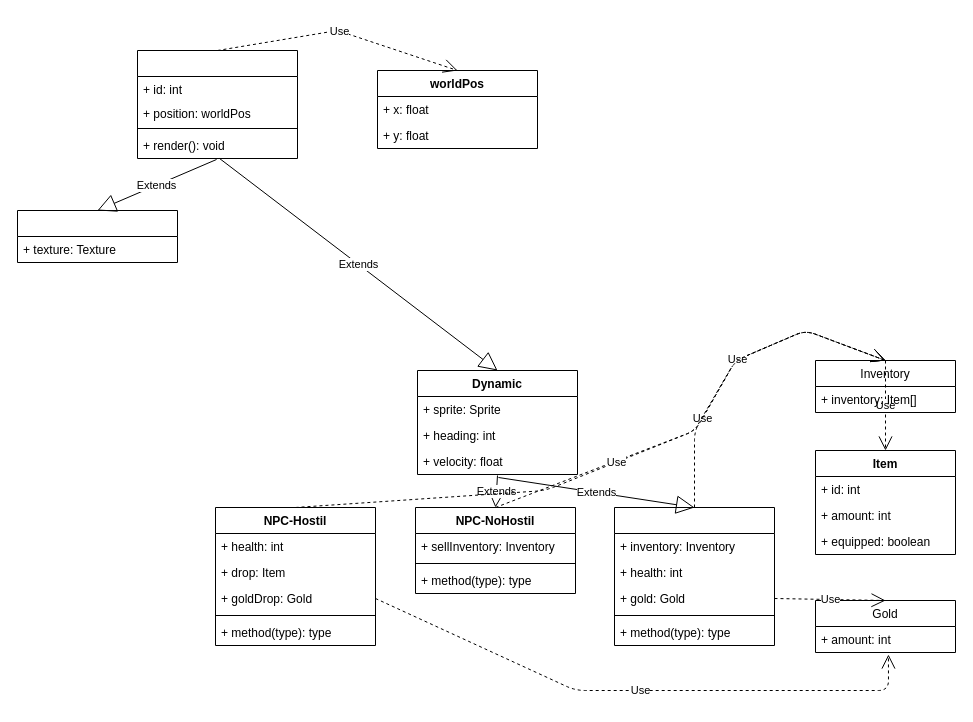
This 973x722 diagram has some shape labels left out. The box of each missing label's shape, as (x1, y1, x2, y2) in pixels:
Entity: (136, 50, 298, 158)
Player: (614, 506, 774, 646)
Solid: (16, 210, 178, 262)
